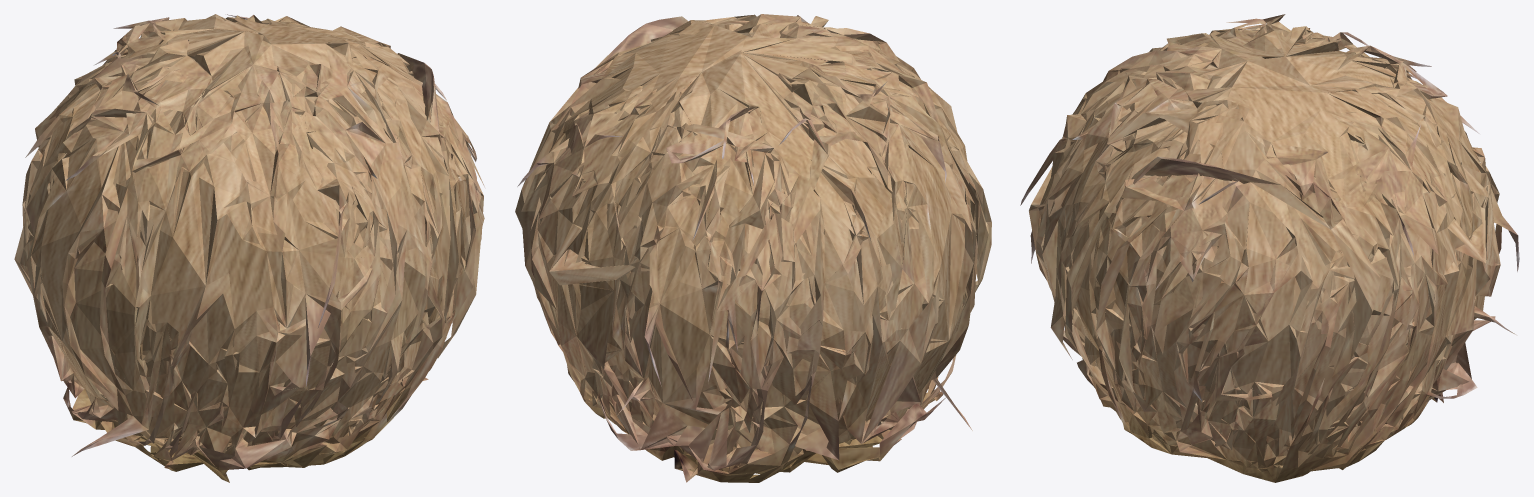
File: haystack.obj
The picture shows the model from 3 angles, left to right: view 1: azimuth 30°, elevation 25°; view 2: azimuth 150°, elevation 25°; view 3: azimuth 270°, elevation 25°; orthographic projection. The views are drawn at different scales.
Parts seen in each view (by area): view 1: haystack; view 2: haystack; view 3: haystack.
Part boxes in pixels (x1,y1,x2,y2): haystack: [14, 14, 485, 482]; haystack: [515, 14, 991, 482]; haystack: [1020, 14, 1519, 482].
Size of the model in its own units: 2.97 by 2.65 by 3.2.
1 material, 1 textured.
